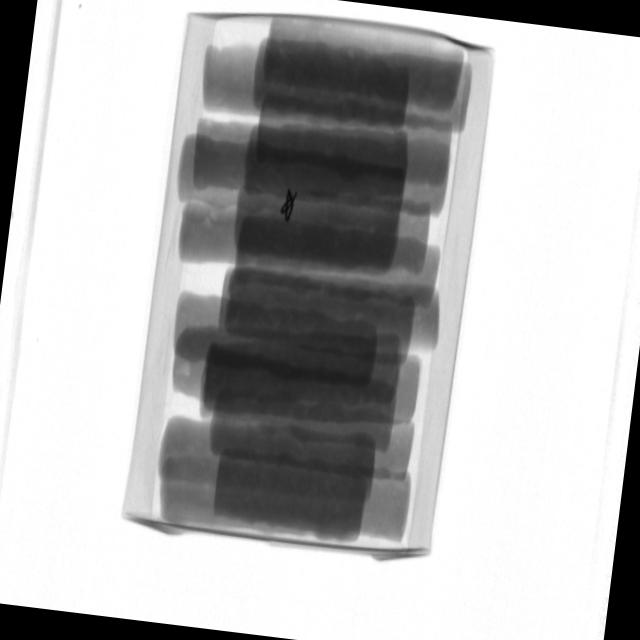ym: (280, 189, 298, 224)
